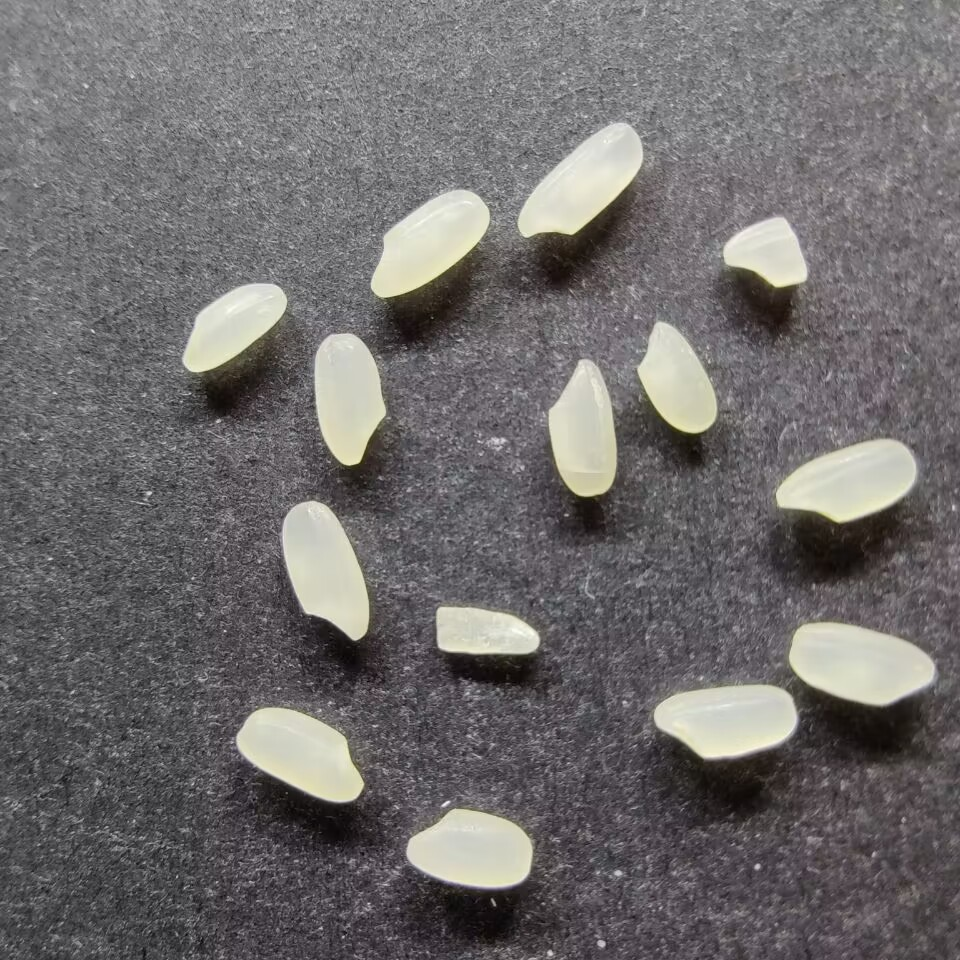broken: (723, 217, 806, 288), (435, 605, 540, 655)
rice: (515, 120, 644, 239), (368, 187, 492, 299), (279, 499, 371, 643), (235, 706, 366, 805), (774, 437, 918, 524), (789, 623, 933, 706), (652, 682, 797, 760), (404, 806, 534, 890), (180, 281, 290, 375), (312, 331, 388, 467), (546, 358, 618, 499), (634, 319, 719, 435)
